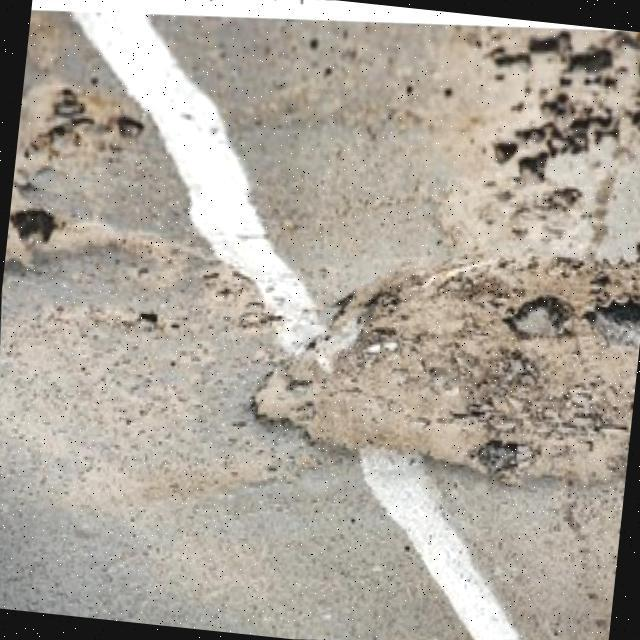Pothole: (241, 246, 640, 490)
